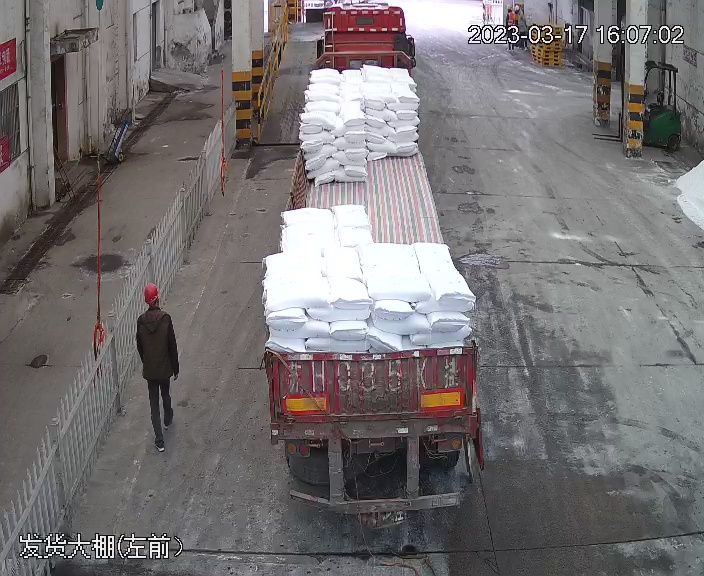head: (135, 282, 173, 332)
helmet: (142, 282, 160, 302)
people: (134, 282, 182, 453)
truck: (257, 5, 489, 525)
